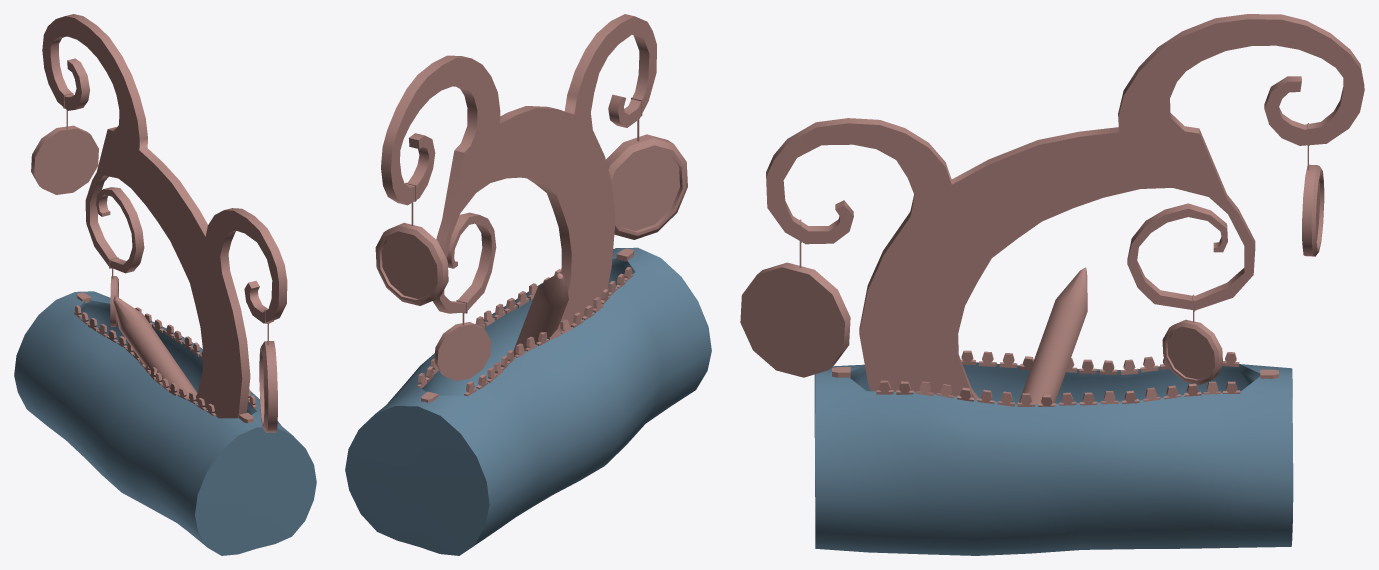
Rendered from Astuccio_low.fbx.
3 views of the same model, side by side, from view 1: azimuth 30°, elevation 25°; view 2: azimuth 150°, elevation 25°; view 3: azimuth 270°, elevation 25° (orthographic). The views are drawn at different scales.
Parts seen in each view (by area): view 1: Astuccio_low; view 2: Astuccio_low; view 3: Astuccio_low.
Part boxes in pixels (x1,y1,x2,y2): Astuccio_low: (14,14,316,555); Astuccio_low: (345,14,711,555); Astuccio_low: (740,14,1364,555).
Bounding box in the file's own units: 146 × 401 × 437.
